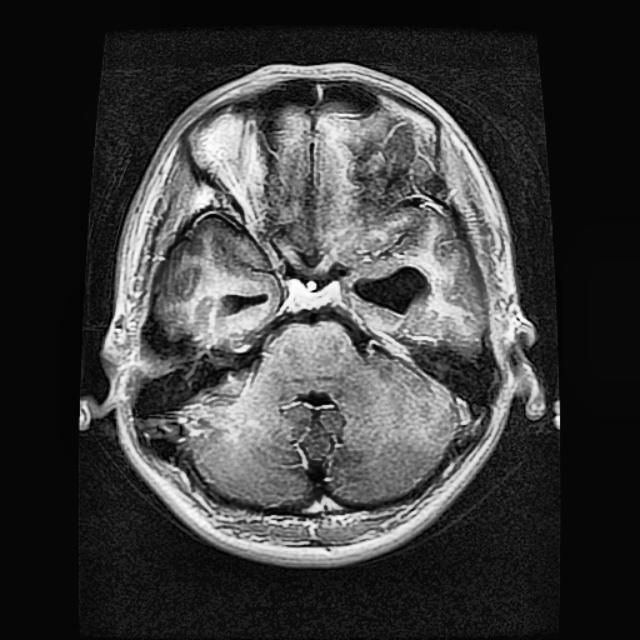Glioma: (349, 269, 433, 305)
